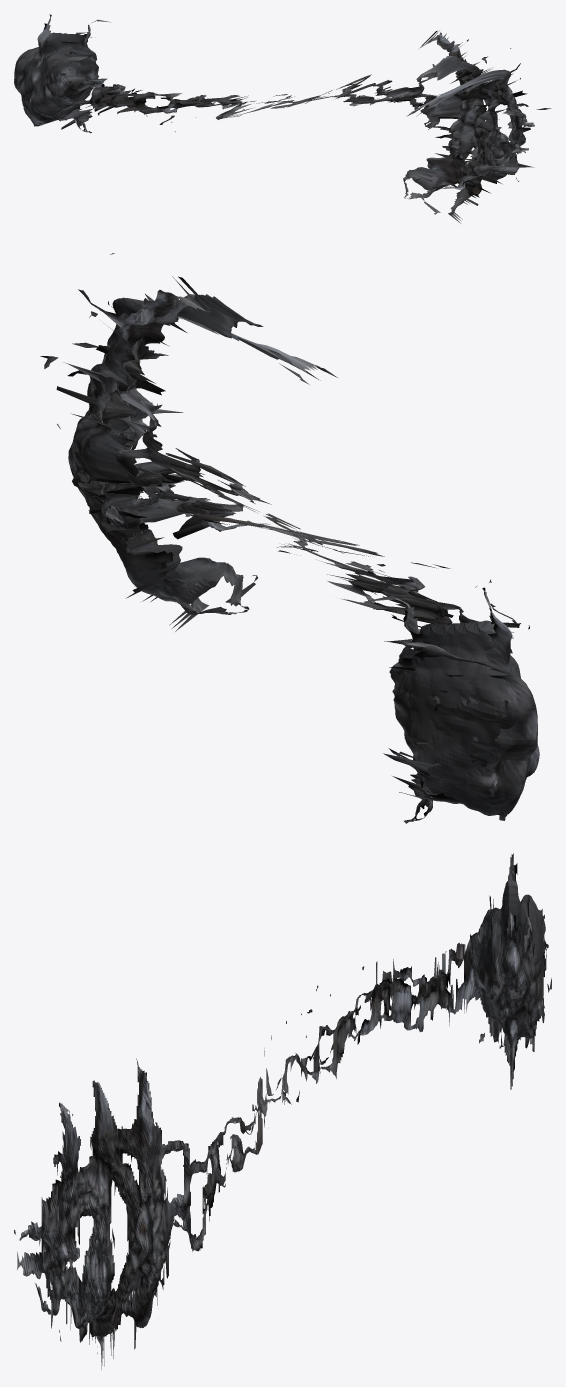
Rendered from volume2_mesh.glb.
3 views of the same model, one above another, from view 1: azimuth 30°, elevation 25°; view 2: azimuth 150°, elevation 25°; view 3: azimuth 270°, elevation 25° (orthographic). The views are drawn at different scales.
Parts seen in each view (by area): view 1: ipn, fill; view 2: ipn, fill; view 3: ipn, fill.
Part boxes in pixels (bbox=[...]): ipn: bbox=[14, 14, 551, 223]; fill: bbox=[27, 32, 519, 190]; ipn: bbox=[40, 253, 539, 823]; fill: bbox=[77, 470, 519, 815]; ipn: bbox=[14, 853, 551, 1369]; fill: bbox=[57, 879, 545, 1324].
Size of the model in its own units: 1.81 by 0.8509 by 1.36.
Materials: 2 (1 with a texture image).
